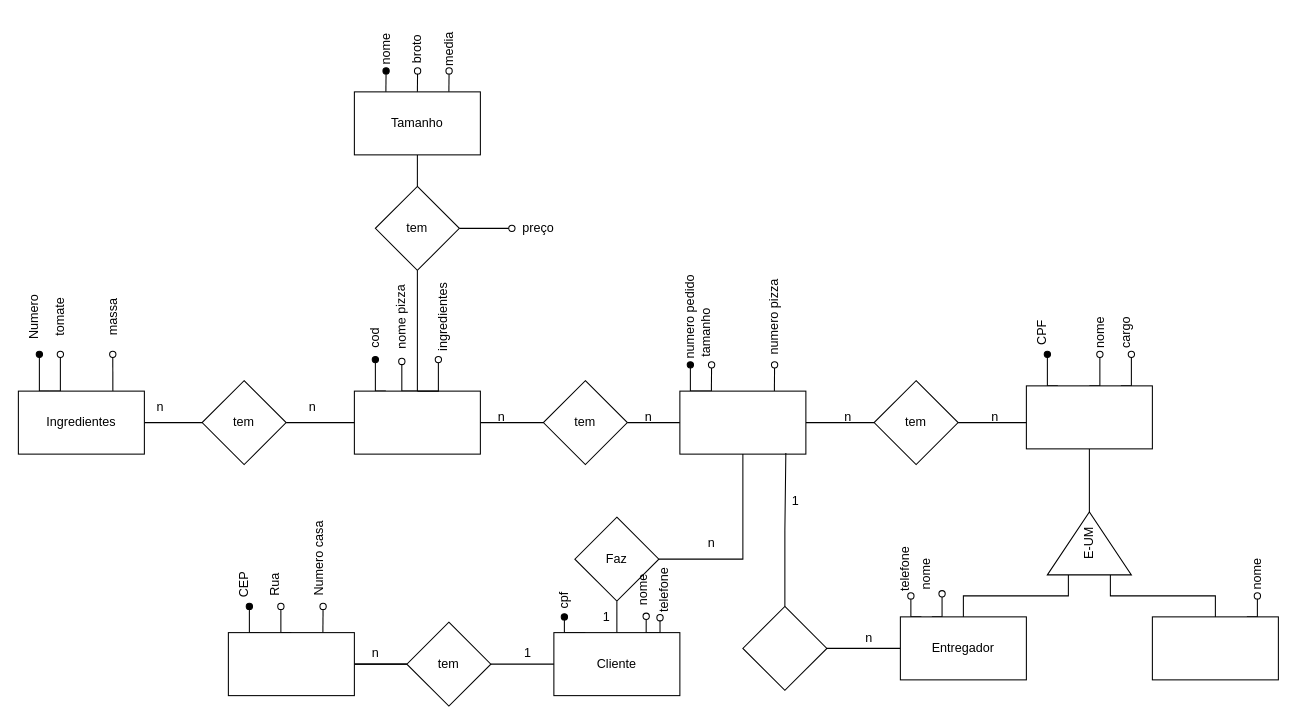
This 1297x724 diagram has some shape labels left out. The centre of each missing label's shape, as x and y in pixels:
"Atendente" goes at (1214,648).
"Endereço" goes at (290,664).
"entrega" goes at (784,647).
"Funcionarios" goes at (1088,417).
"Pedido" goes at (742,422).
"pizza" goes at (416,422).
